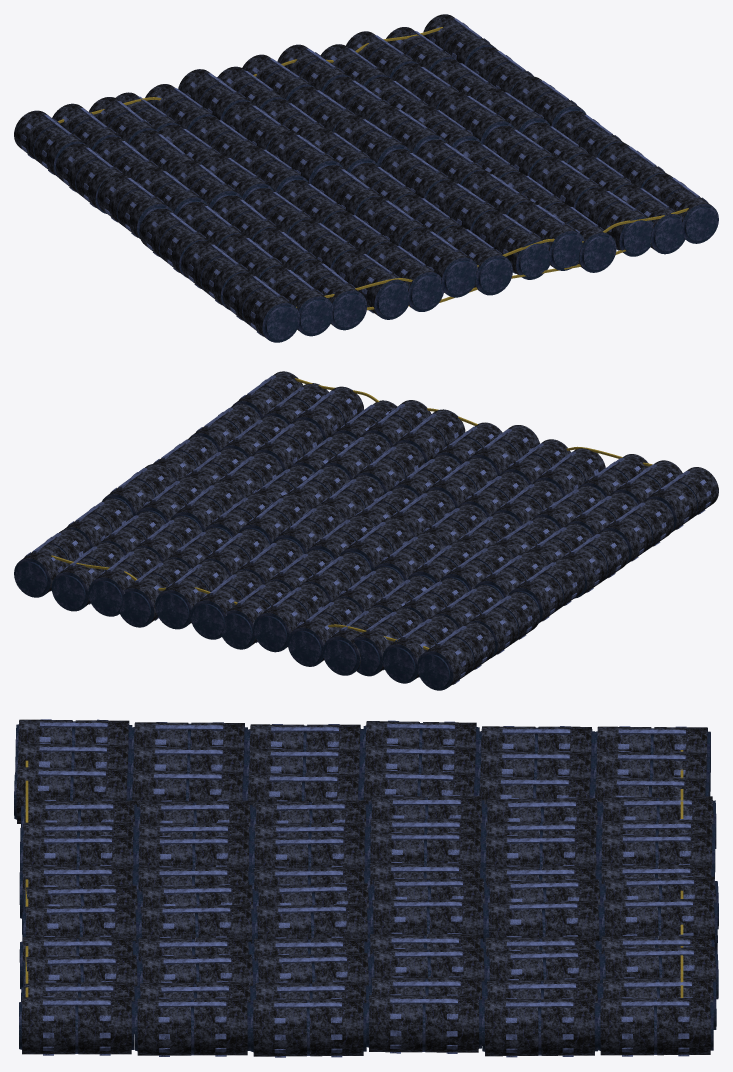
File: PlatformCube.fbx
The picture shows the model from 3 angles, top to bottom: view 1: azimuth 30°, elevation 25°; view 2: azimuth 150°, elevation 25°; view 3: azimuth 270°, elevation 25°; orthographic projection. The views are drawn at different scales.
Parts seen in each view (by area): view 1: Cube.051, BézierCurve; view 2: Cube.051, BézierCurve; view 3: Cube.051, BézierCurve.
Boxes of the visible parts, x1,y1,x2,y2 form: Cube.051: (14, 14, 718, 342); BézierCurve: (58, 27, 688, 310); Cube.051: (14, 371, 718, 690); BézierCurve: (51, 378, 652, 650); Cube.051: (14, 719, 718, 1057); BézierCurve: (25, 750, 683, 997).
Size of the model in its own units: 501 by 56.71 by 503.
Materials: 3 (3 with a texture image).
